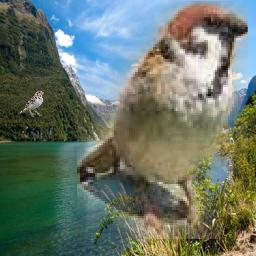Sparrow: (78, 1, 249, 239), (18, 91, 45, 118)
